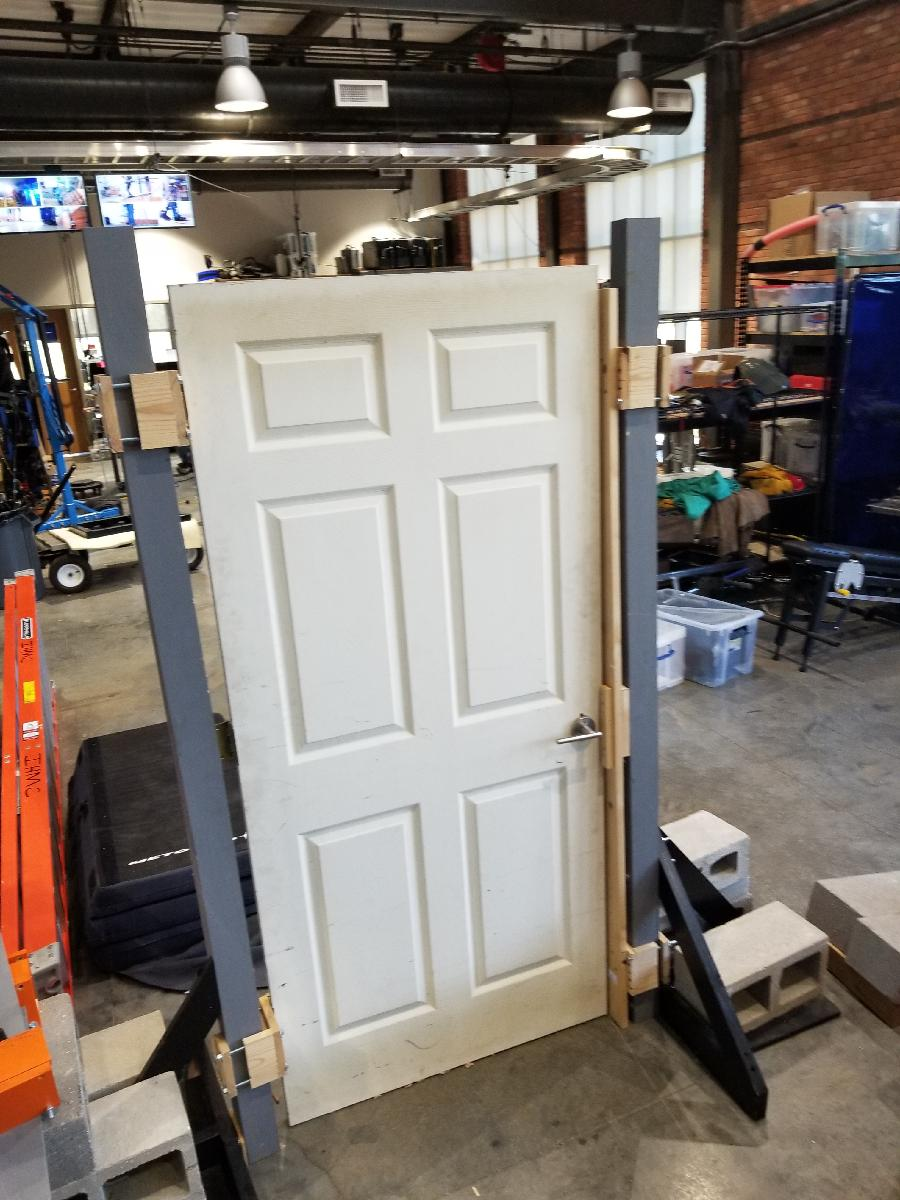door: (161, 263, 610, 1131)
doorHandle: (554, 710, 610, 749)
